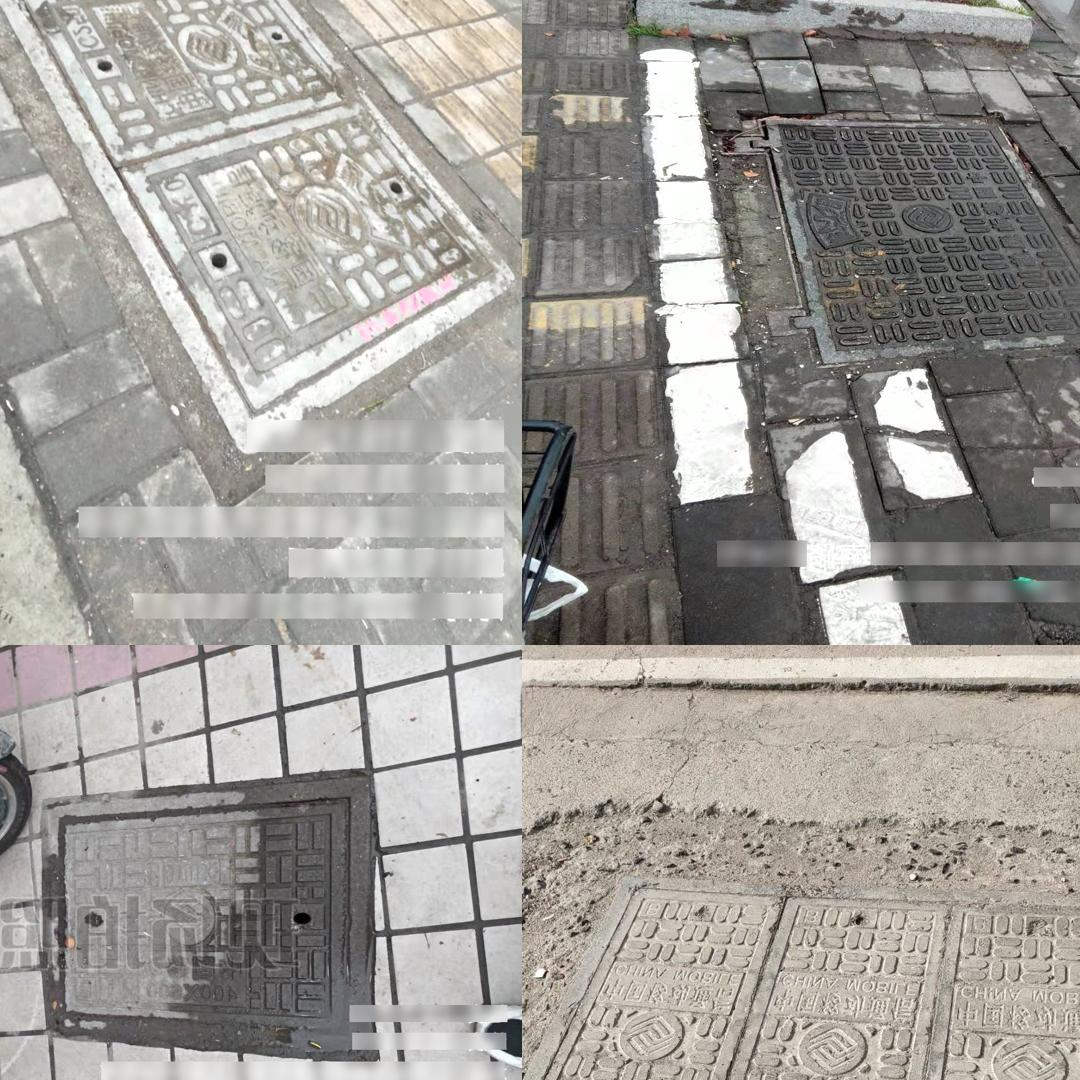good: (0, 0, 516, 457), (522, 874, 1080, 1080), (722, 115, 1080, 369), (44, 775, 372, 1043)
